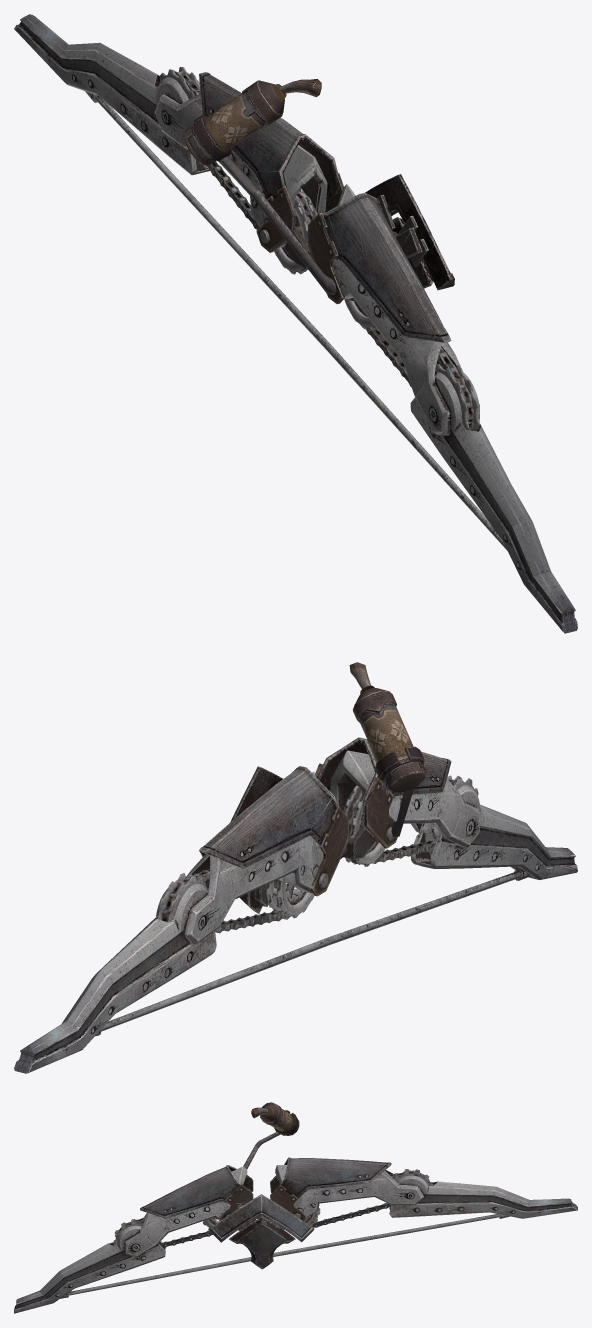
Rendered from bs_bow002.obj.
The picture shows the model from 3 angles, top to bottom: view 1: azimuth 30°, elevation 25°; view 2: azimuth 150°, elevation 25°; view 3: azimuth 270°, elevation 25°; orthographic projection. The views are drawn at different scales.
Parts seen in each view (by area): view 1: bs_bow002_000_LOD_1, bs_bow002_001_LOD_1, bs_bow002_004_LOD_1, bs_bow002_005_LOD_1, bs_bow002_003_LOD_1; view 2: bs_bow002_001_LOD_1, bs_bow002_000_LOD_1, bs_bow002_004_LOD_1, bs_bow002_005_LOD_1, bs_bow002_003_LOD_1, bs_bow002_002_LOD_1; view 3: bs_bow002_001_LOD_1, bs_bow002_000_LOD_1, bs_bow002_003_LOD_1, bs_bow002_005_LOD_1, bs_bow002_004_LOD_1.
Part boxes in pixels (box(x1,y1,x2,y2)): bs_bow002_000_LOD_1: box(308, 184, 577, 633); bs_bow002_001_LOD_1: box(14, 14, 343, 274); bs_bow002_004_LOD_1: box(183, 79, 336, 295); bs_bow002_005_LOD_1: box(95, 95, 507, 550); bs_bow002_003_LOD_1: box(365, 174, 454, 290); bs_bow002_001_LOD_1: box(14, 766, 349, 1073); bs_bow002_000_LOD_1: box(315, 737, 577, 880); bs_bow002_004_LOD_1: box(349, 662, 426, 836); bs_bow002_005_LOD_1: box(101, 871, 520, 1031); bs_bow002_003_LOD_1: box(230, 766, 282, 913); bs_bow002_002_LOD_1: box(285, 823, 377, 883); bs_bow002_001_LOD_1: box(270, 1157, 577, 1227); bs_bow002_000_LOD_1: box(14, 1165, 253, 1313); bs_bow002_003_LOD_1: box(208, 1194, 314, 1269); bs_bow002_005_LOD_1: box(68, 1214, 498, 1295); bs_bow002_004_LOD_1: box(243, 1102, 299, 1169).
Bounding box in the file's own units: 54.34 × 98.6 × 255.
